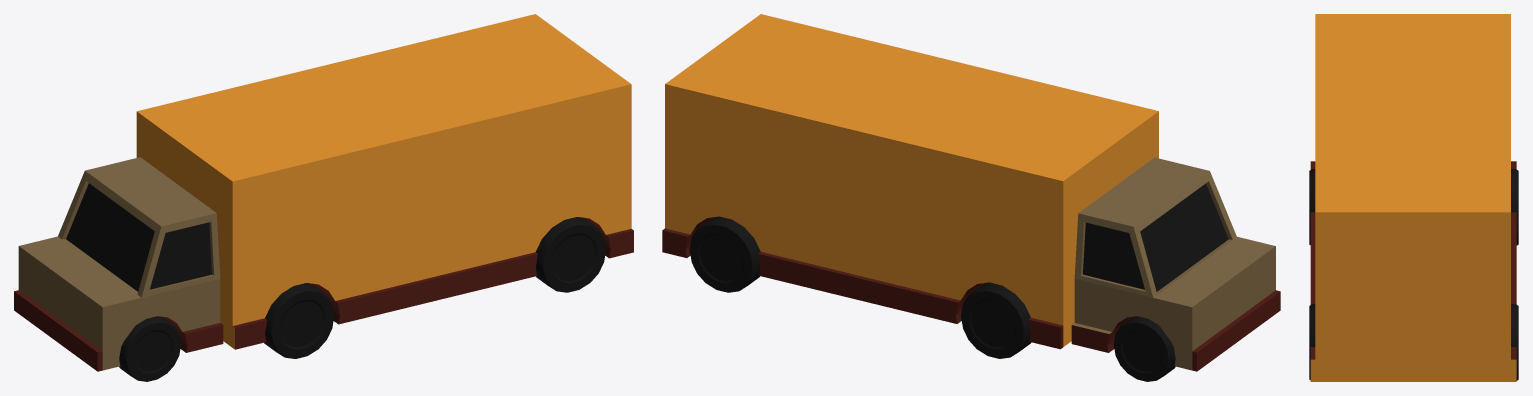
Rendered from transport_viechle.FBX.
3 renders of one model, left to right at view 1: azimuth 30°, elevation 25°; view 2: azimuth 150°, elevation 25°; view 3: azimuth 270°, elevation 25°, orthographic. The views are drawn at different scales.
Visible parts, largest first — view 1: transport_viechle, Box164, Cylinder041, Cylinder043, Cylinder045; view 2: transport_viechle, Box164, Cylinder039, Cylinder042, Cylinder044; view 3: transport_viechle, Cylinder042, Cylinder039, Cylinder043, Cylinder041.
Part boxes in pixels (x1=…): transport_viechle: x1=14, y1=14, x2=633, y2=371; Box164: x1=18, y1=157, x2=220, y2=370; Cylinder041: x1=535, y1=217, x2=606, y2=292; Cylinder043: x1=264, y1=283, x2=334, y2=358; Cylinder045: x1=119, y1=316, x2=180, y2=381; transport_viechle: x1=662, y1=14, x2=1280, y2=371; Box164: x1=1072, y1=157, x2=1275, y2=370; Cylinder039: x1=689, y1=216, x2=760, y2=292; Cylinder042: x1=961, y1=282, x2=1031, y2=358; Cylinder044: x1=1113, y1=316, x2=1175, y2=381; transport_viechle: x1=1310, y1=14, x2=1516, y2=381; Cylinder042: x1=1511, y1=169, x2=1518, y2=245; Cylinder039: x1=1511, y1=304, x2=1518, y2=380; Cylinder043: x1=1309, y1=169, x2=1315, y2=244; Cylinder041: x1=1309, y1=304, x2=1315, y2=380.
Bounding box in the file's own units: 21.8 × 7.56 × 7.36.
